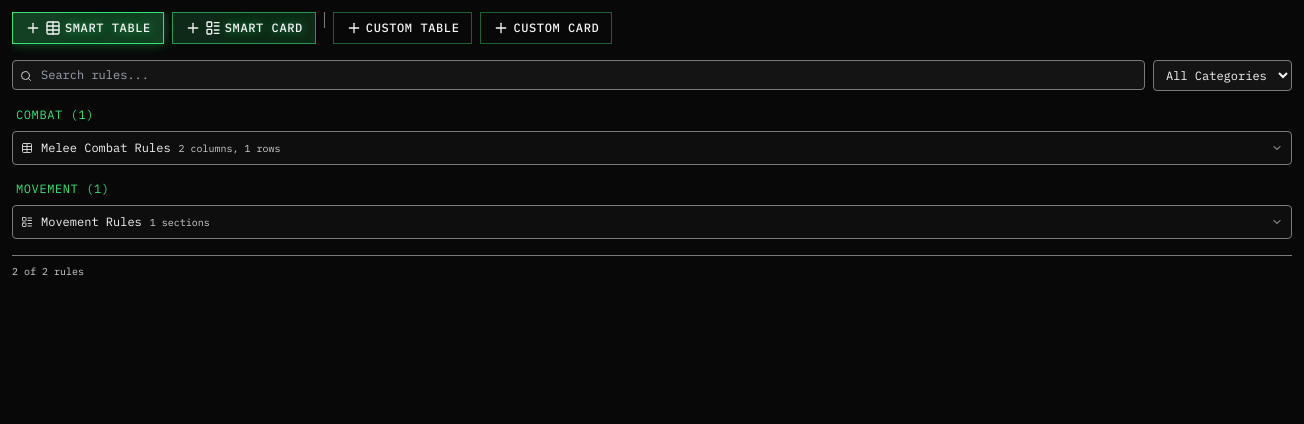
RulesManager › expands rule on click
Click the button "Melee Combat Rules 2 columns, 1 rows": (106, 148) [13,132,1291,164]
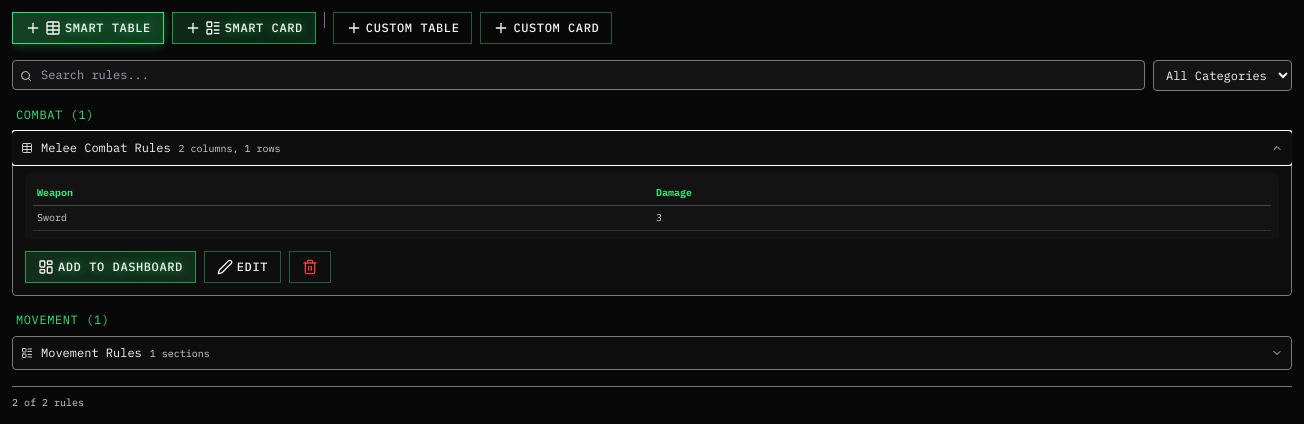
Check: the button "Add to Dashboard" is shown, box [25,251,196,283]
Check: the button "Edit" is shown, box [204,251,281,283]
